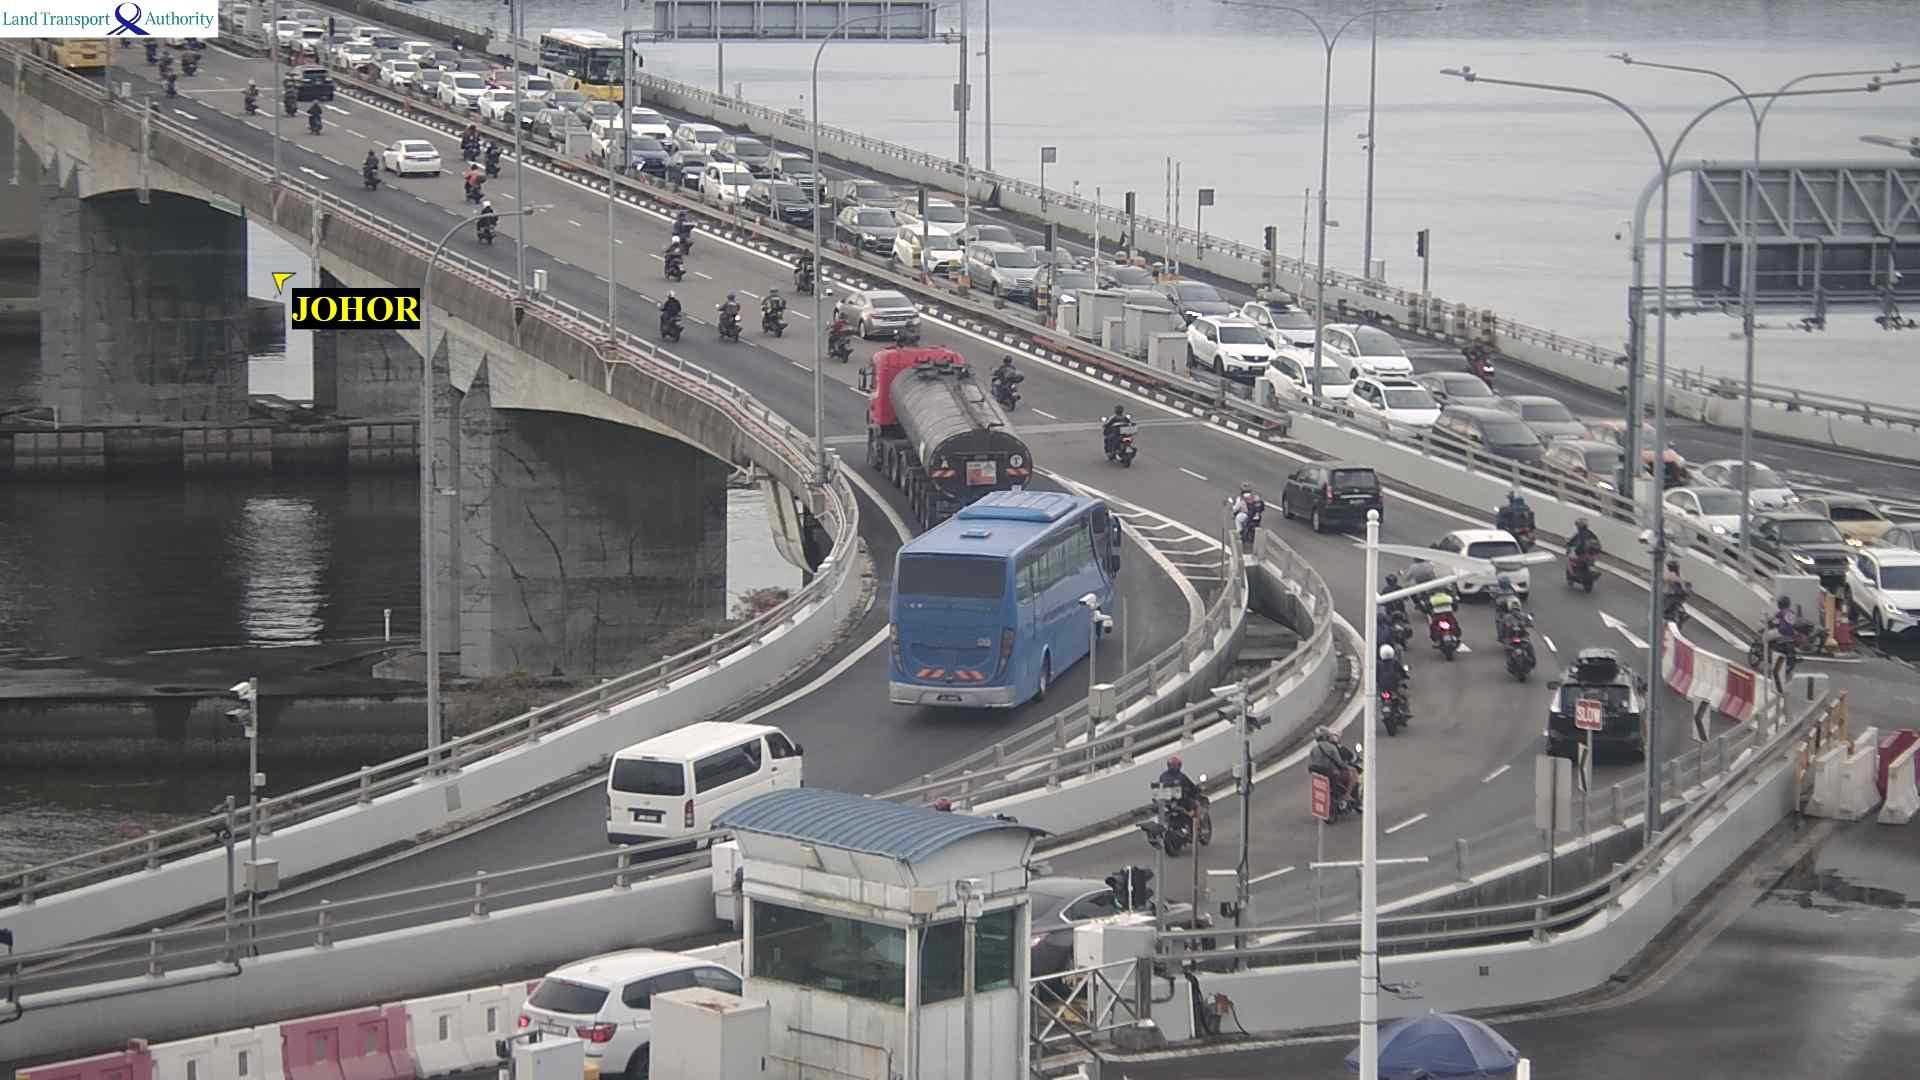vehicle-secondlink-johor: (894, 503, 1116, 712), (604, 723, 810, 854), (867, 362, 1017, 512), (1551, 678, 1647, 755), (1289, 464, 1388, 530), (1137, 765, 1203, 846), (836, 287, 926, 339), (1315, 727, 1358, 815), (371, 143, 456, 180), (1496, 610, 1536, 680), (1097, 415, 1141, 467), (1566, 521, 1600, 584), (1492, 490, 1532, 535), (987, 359, 1020, 410), (1431, 608, 1468, 653), (658, 235, 688, 278), (654, 293, 684, 336), (719, 291, 746, 334), (766, 290, 785, 332), (485, 143, 503, 178), (464, 123, 480, 161), (801, 250, 816, 288), (241, 82, 259, 110), (469, 169, 486, 198)
vehicle-secondlink-singapore: (1411, 377, 1594, 428), (1250, 326, 1421, 374), (955, 257, 1136, 299), (1841, 555, 1920, 640), (1777, 495, 1912, 544), (1738, 518, 1882, 562), (1692, 459, 1798, 510), (1189, 323, 1325, 360), (1109, 284, 1237, 322), (542, 30, 641, 78), (829, 209, 926, 252), (1487, 397, 1592, 436), (953, 255, 1061, 292), (1238, 303, 1328, 345), (1350, 379, 1460, 412), (1842, 546, 1920, 590), (1392, 371, 1509, 399), (1663, 488, 1794, 513), (963, 249, 1071, 279), (1040, 271, 1154, 297), (721, 178, 828, 205), (590, 137, 674, 170), (540, 26, 635, 55), (431, 62, 515, 91), (584, 110, 677, 136), (661, 158, 746, 186), (748, 191, 827, 221), (413, 72, 511, 95), (484, 98, 568, 123), (370, 44, 450, 69), (903, 197, 971, 226), (438, 54, 512, 80), (485, 64, 555, 90), (954, 225, 1026, 250), (714, 141, 781, 167), (768, 158, 833, 184), (708, 135, 775, 158), (669, 124, 737, 146), (268, 15, 338, 36), (419, 51, 490, 71), (346, 53, 424, 71), (364, 56, 436, 75), (159, 18, 218, 41), (332, 36, 392, 57), (384, 40, 444, 60), (526, 92, 586, 112), (322, 41, 380, 61), (511, 71, 565, 92), (287, 65, 333, 89), (363, 31, 415, 51), (342, 27, 390, 44), (481, 208, 495, 242)
